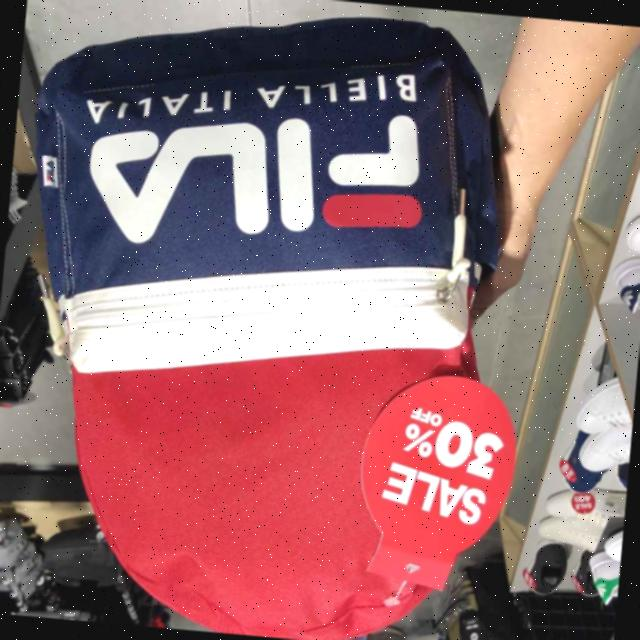Handbag: (6, 0, 545, 640)
